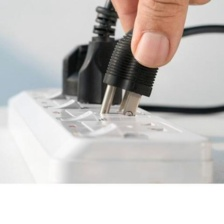three_eye_plug: (3, 82, 217, 193)
